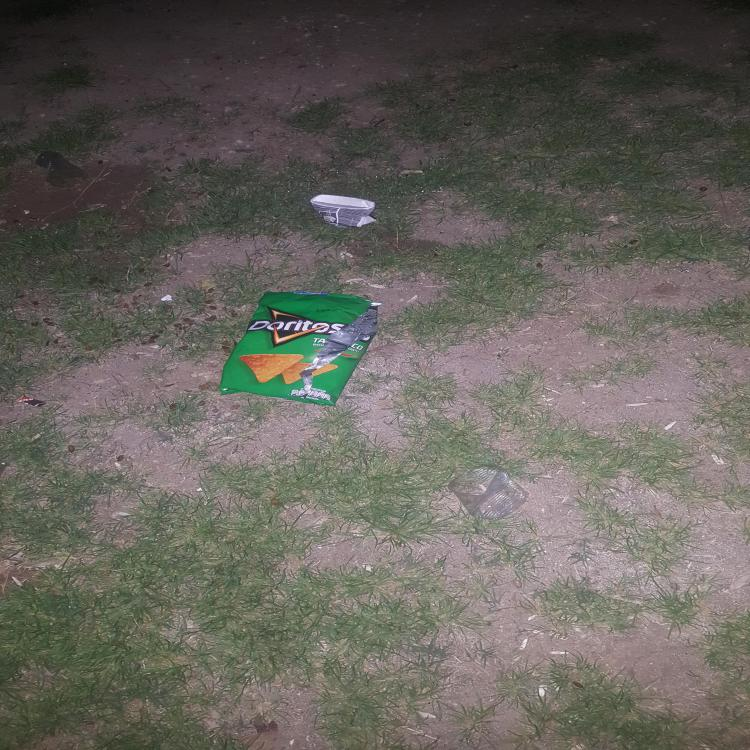Disposable plastic cup: (448, 464, 528, 520)
Paper cup: (310, 194, 376, 228)
